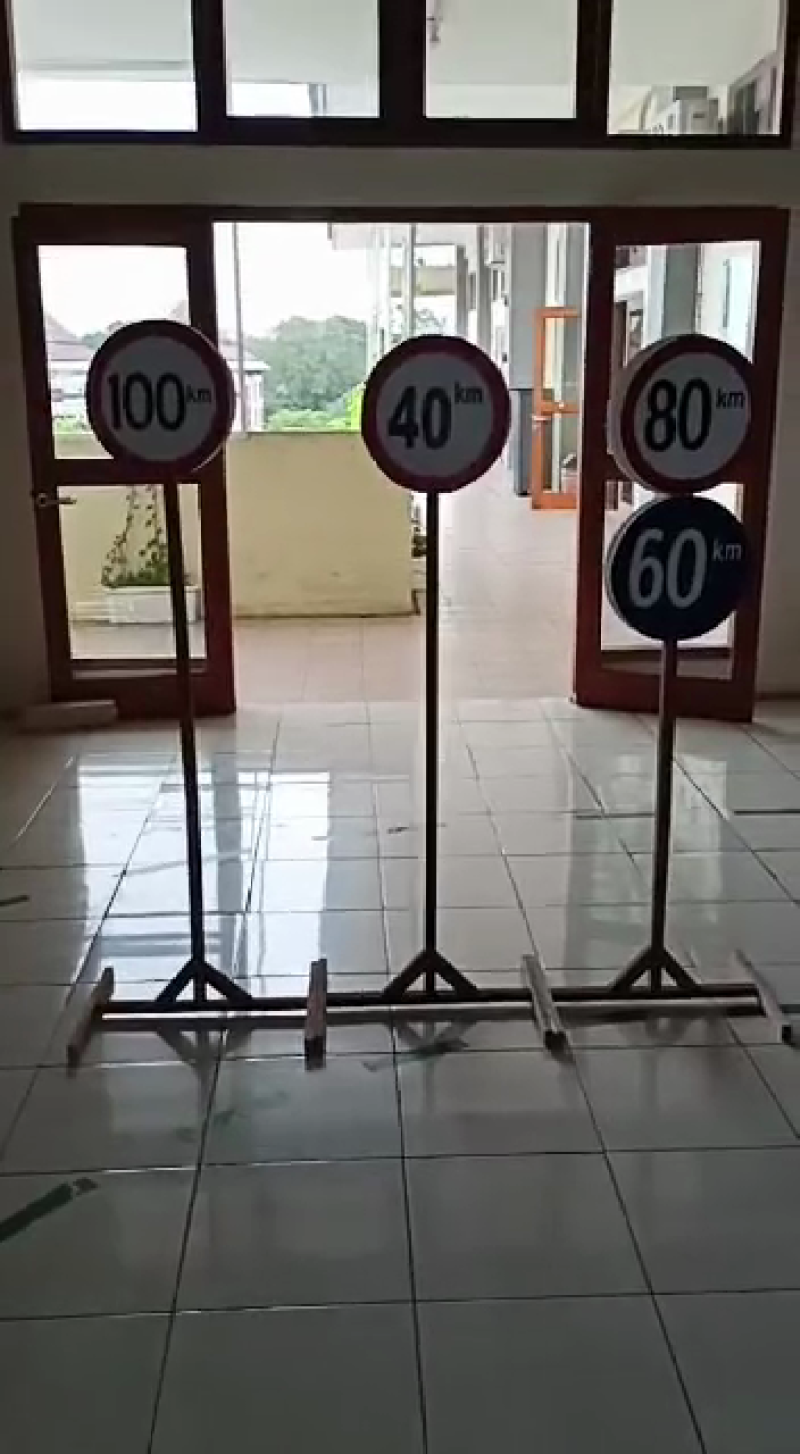batas maksimal 100kmperjam: (72, 309, 237, 472)
batas maksimal 40kmperjam: (357, 337, 509, 511)
batas maksimal 80kmperjam minimal 60kmperjam: (603, 322, 772, 659)
